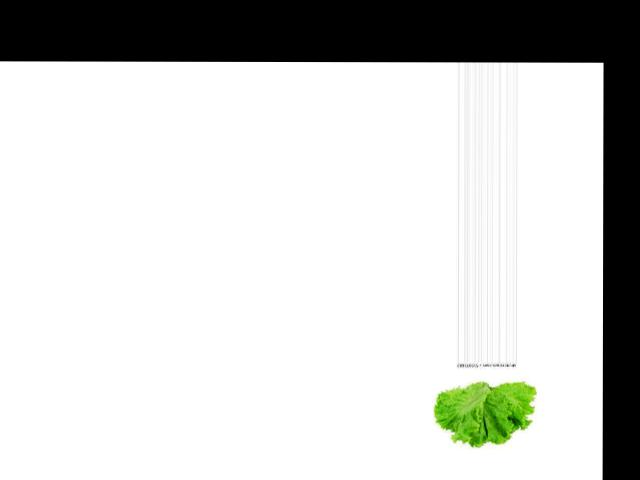lettuce: (431, 368, 537, 448)
